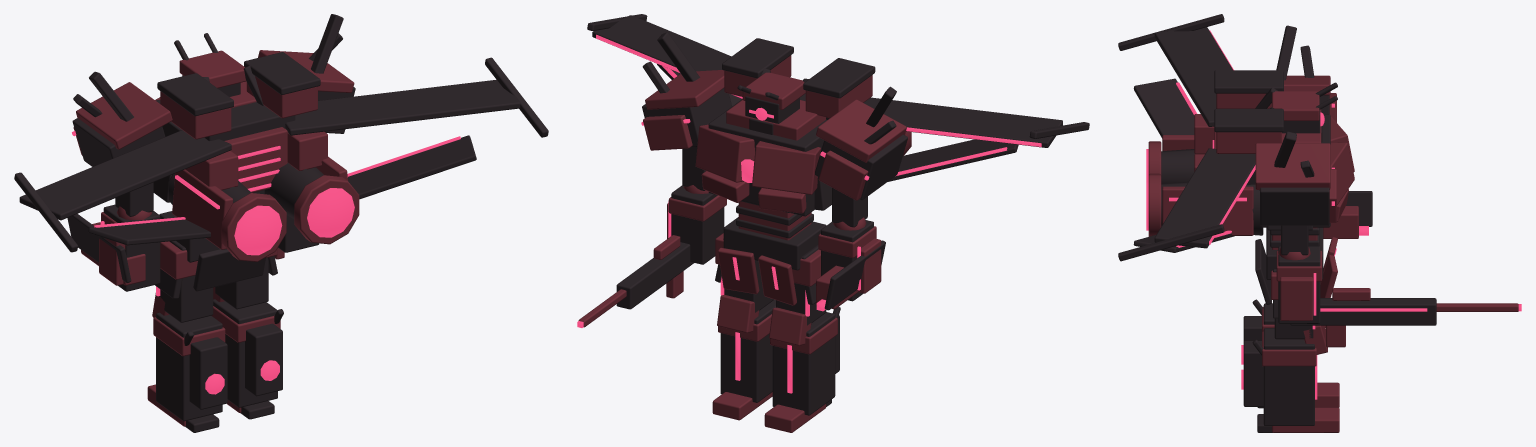
Rendered from raven.glb.
3 renders of one model, left to right at view 1: azimuth 30°, elevation 25°; view 2: azimuth 150°, elevation 25°; view 3: azimuth 270°, elevation 25°, orthographic. The views are drawn at different scales.
Visible parts, largest first — view 1: rightWing_dark, leftWing_dark, backpack_other, leftShin_dark, rightShin_dark, backpack_glow, torso_dark, leftArm_dark, backpack_dark, leftShoulder_other, leftShoulder_dark, leftPod_dark (+15 smaller); view 2: torso_other, leftWing_dark, torso_dark, rightArm_dark, leftShoulder_other, leftShin_dark, rightWing_dark, rightShoulder_other, leftArm_dark, rightShin_dark, leftShin_other, rightShin_other (+15 smaller); view 3: leftWing_dark, rightWing_dark, rightShin_dark, rightArm_dark, rightArm_other, rightShoulder_other, rightShoulder_dark, backpack_other, torso_other, rightShin_other, torso_dark, backpack_dark (+15 smaller).
Part boxes in pixels (x1,y1,x2,y2): rightWing_dark: (285,57,548,199); leftWing_dark: (14,130,231,252); backpack_other: (172,127,359,261); leftShin_dark: (156,312,227,432); rightShin_dark: (213,299,283,419); backpack_glow: (175,146,354,255); torso_dark: (153,65,277,298); leftArm_dark: (67,182,160,291); backpack_dark: (168,102,323,218); leftShoulder_other: (73,82,172,155); leftShoulder_dark: (72,71,165,166); leftPod_dark: (157,73,233,116); torso_other: (695,100,825,305); leftWing_dark: (864,97,1089,181); torso_dark: (708,68,831,304); rightArm_dark: (616,147,724,309); leftShoulder_other: (816,99,906,200); leftShin_dark: (772,306,840,415); rightWing_dark: (587,14,741,106); rightShoulder_other: (643,70,724,150); leftArm_dark: (821,187,885,310); rightShin_dark: (720,299,775,402); leftShin_other: (764,307,837,432); rightShin_other: (712,294,772,420); leftWing_dark: (1118,14,1232,138); rightWing_dark: (1118,148,1255,261); rightShin_dark: (1243,328,1314,432); rightArm_dark: (1278,225,1436,325); rightArm_other: (1276,247,1518,347); rightShoulder_other: (1255,143,1336,222); rightShoulder_dark: (1260,131,1329,225); backpack_other: (1148,131,1253,236); torso_other: (1272,109,1354,297); rightShin_other: (1262,325,1339,432); torso_dark: (1255,87,1330,318); backpack_dark: (1161,149,1263,235).
Bounding box in the file's own units: 5.6 × 4.06 × 4.41.
